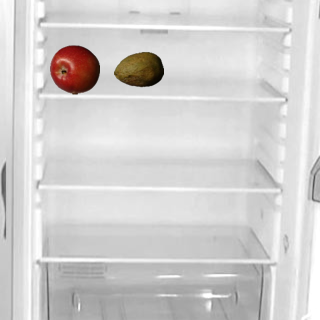Apple Braeburn: (49, 44, 99, 94)
Papaya: (113, 44, 163, 94)
